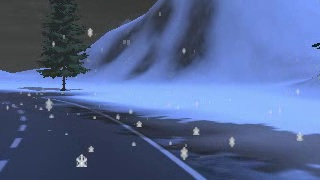Lane: (0, 93, 207, 179)
